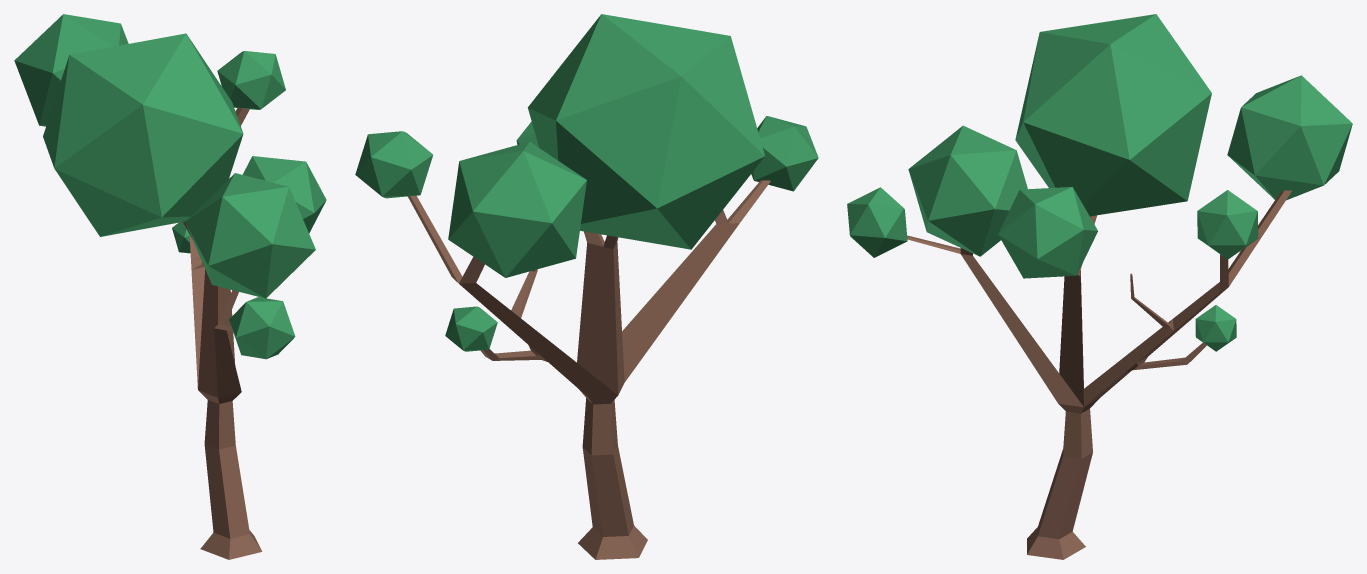
The model's file is Tree1.fbx.
3 views of the same model, side by side, from view 1: azimuth 30°, elevation 25°; view 2: azimuth 150°, elevation 25°; view 3: azimuth 270°, elevation 25° (orthographic). The views are drawn at different scales.
Visible parts, largest first — view 1: Icosphere.015; view 2: Icosphere.015; view 3: Icosphere.015.
Boxes of the visible parts, x1,y1,x2,y2 form: Icosphere.015: (14, 14, 326, 559); Icosphere.015: (355, 14, 818, 559); Icosphere.015: (847, 14, 1352, 559).
Size of the model in its own units: 224 by 368 by 341.
